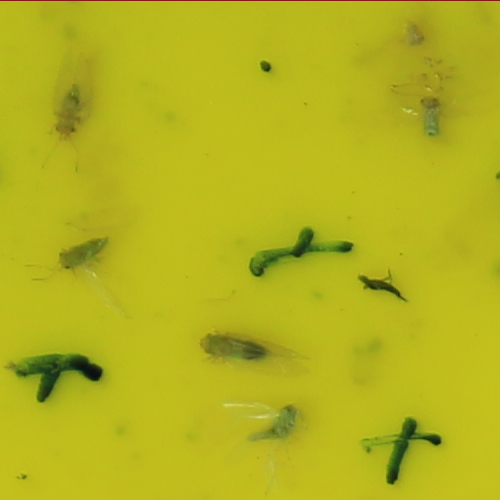Glycaspis: (58, 237, 112, 273), (198, 334, 274, 359), (51, 83, 84, 139)
